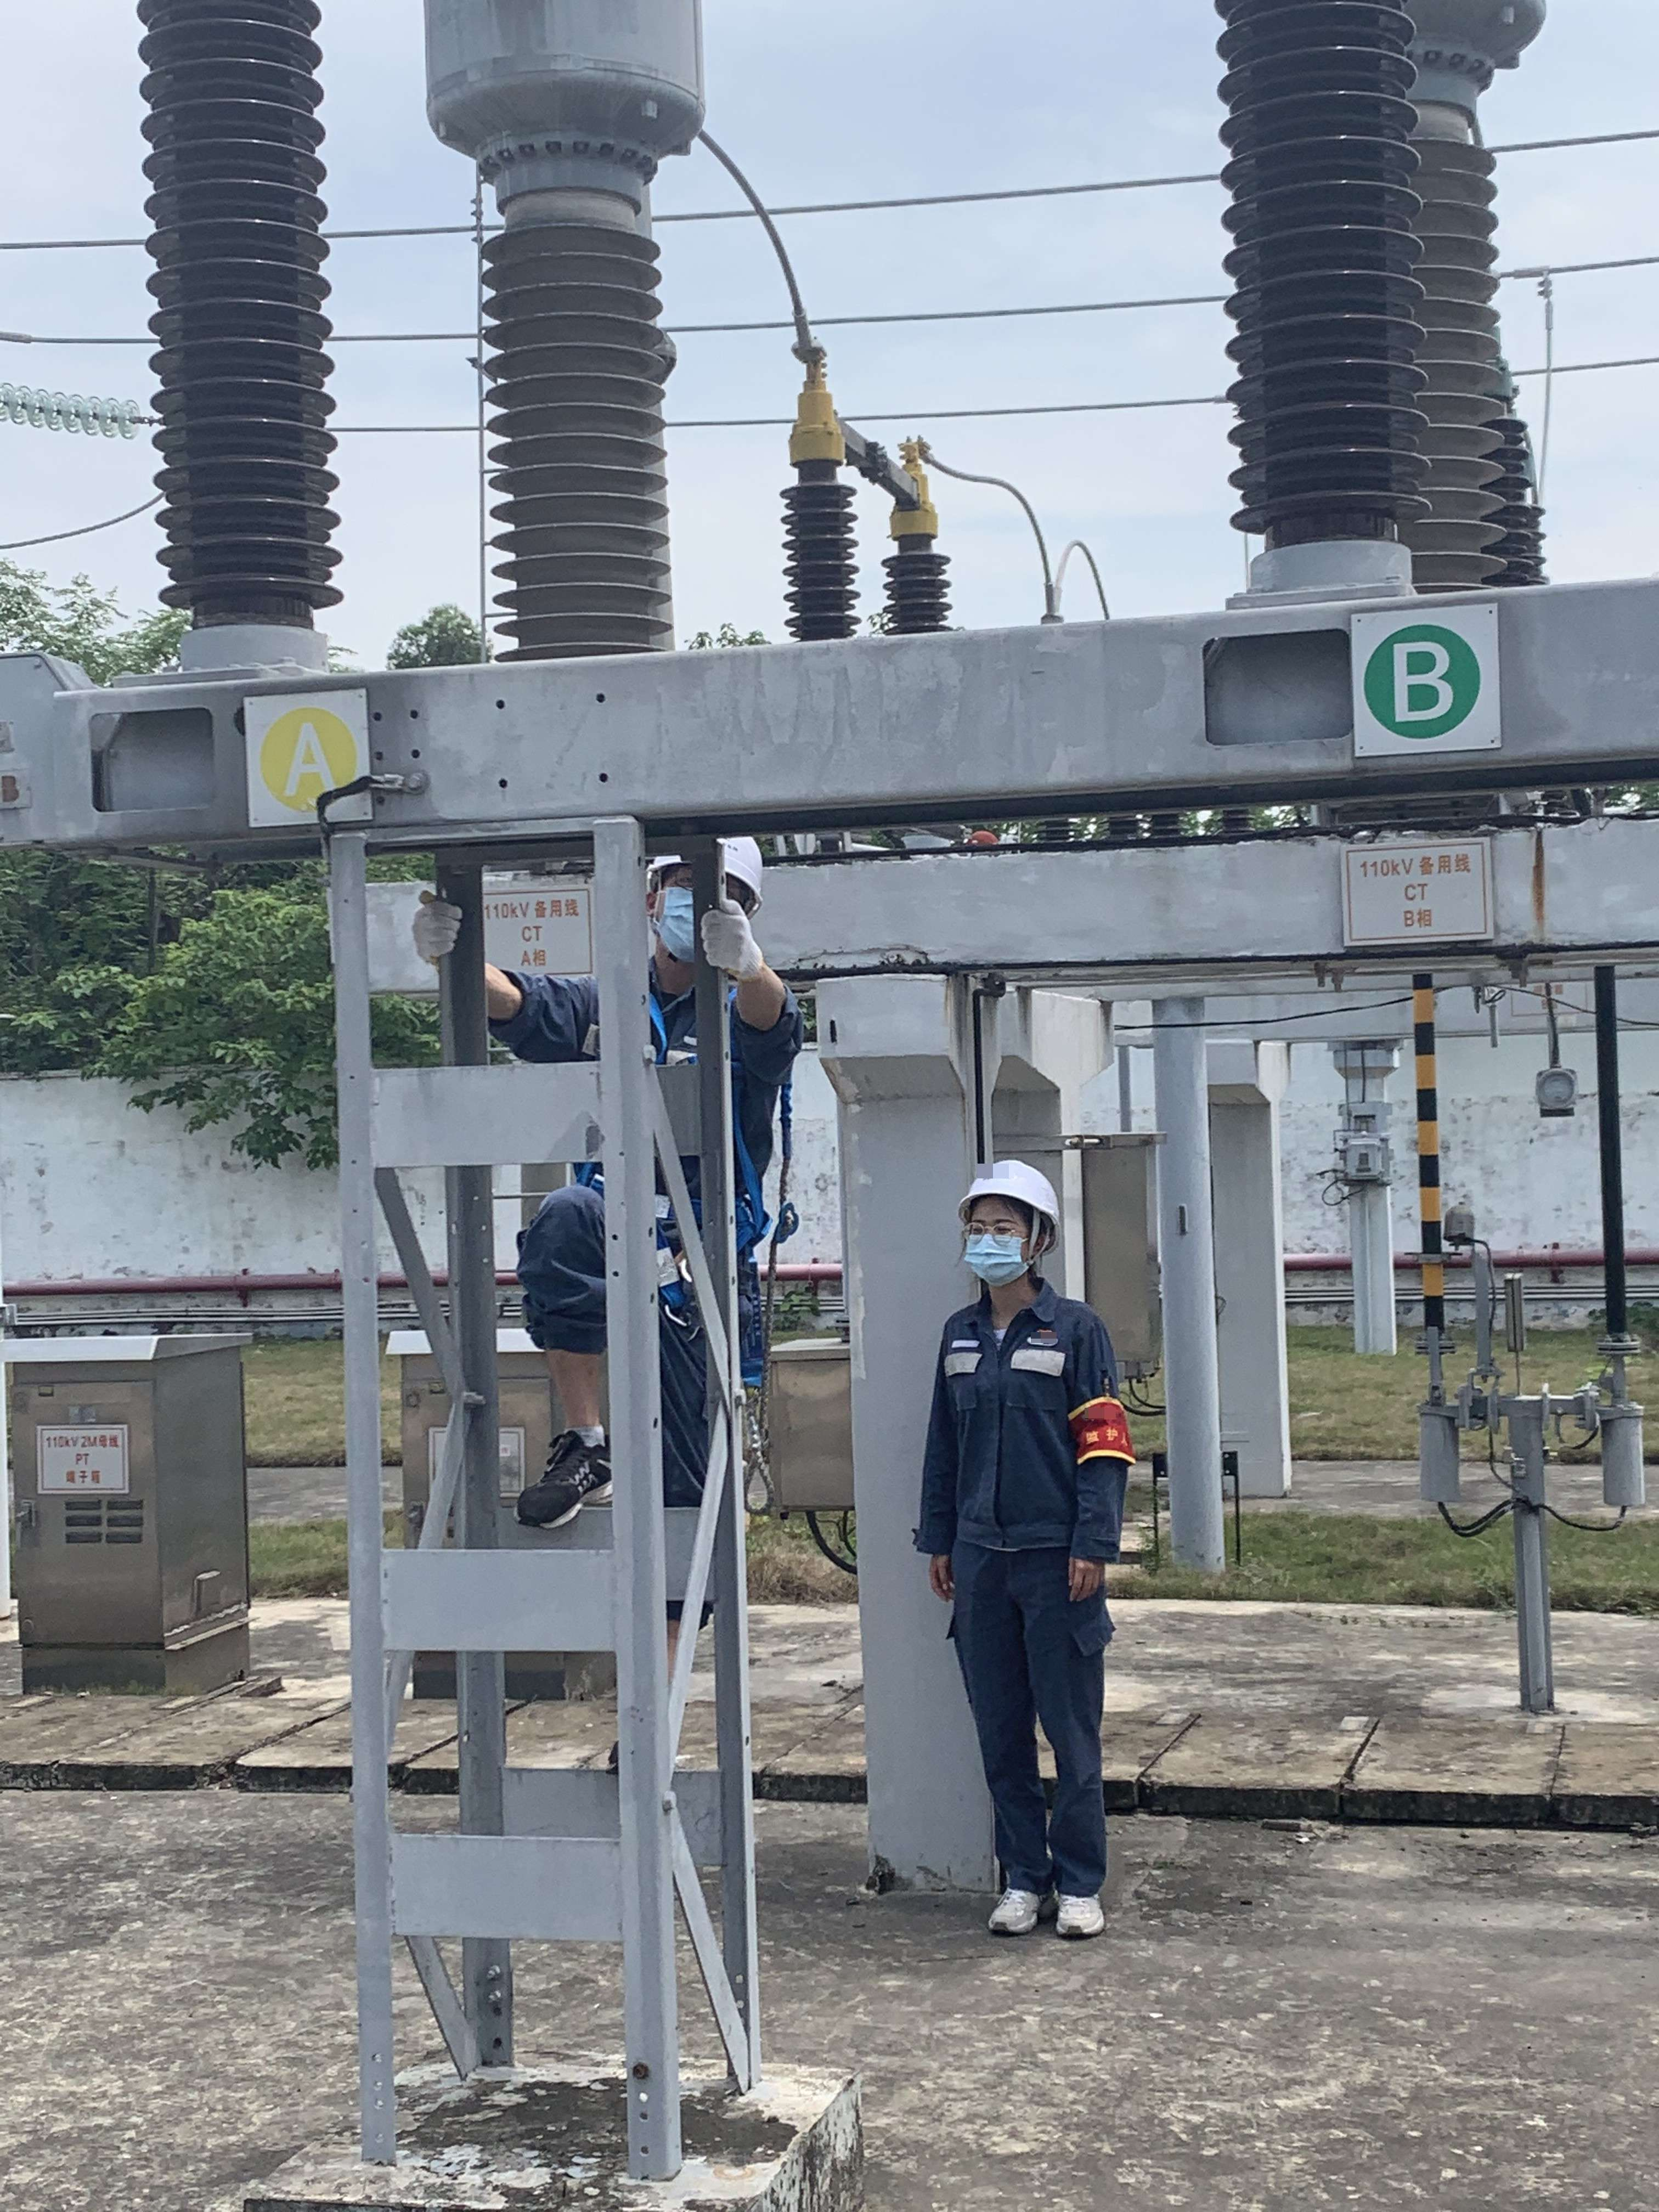downsuit: (523, 1190, 746, 1623), (953, 1576, 1107, 1905)
upsuit: (497, 954, 805, 1177), (917, 1291, 1126, 1561)
wrongbottom: (551, 1343, 612, 1440)
wrongtop: (453, 951, 528, 1038), (741, 960, 789, 1033)
